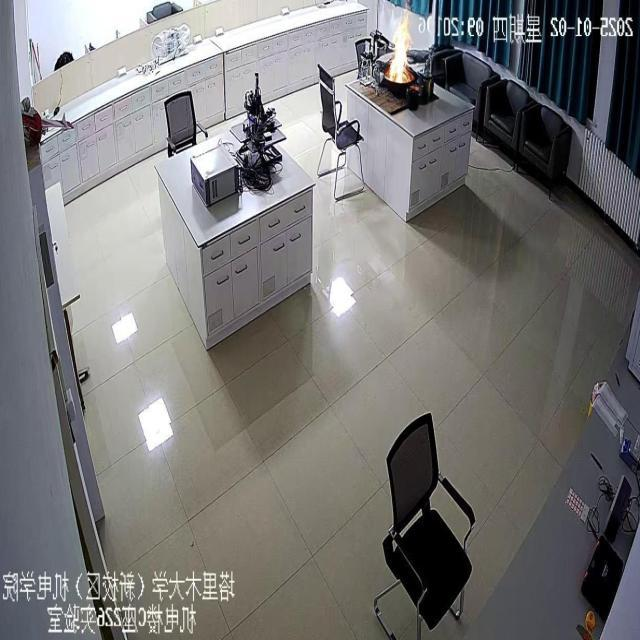smoke: (384, 3, 414, 86)
